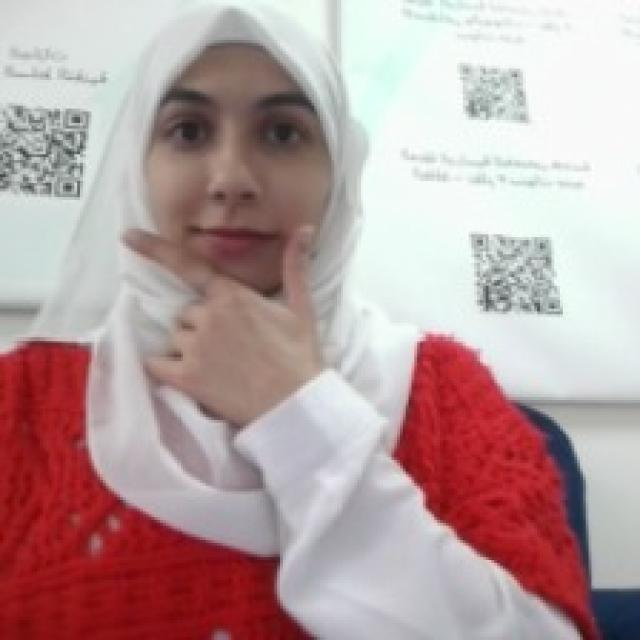smile: (109, 208, 328, 392)
